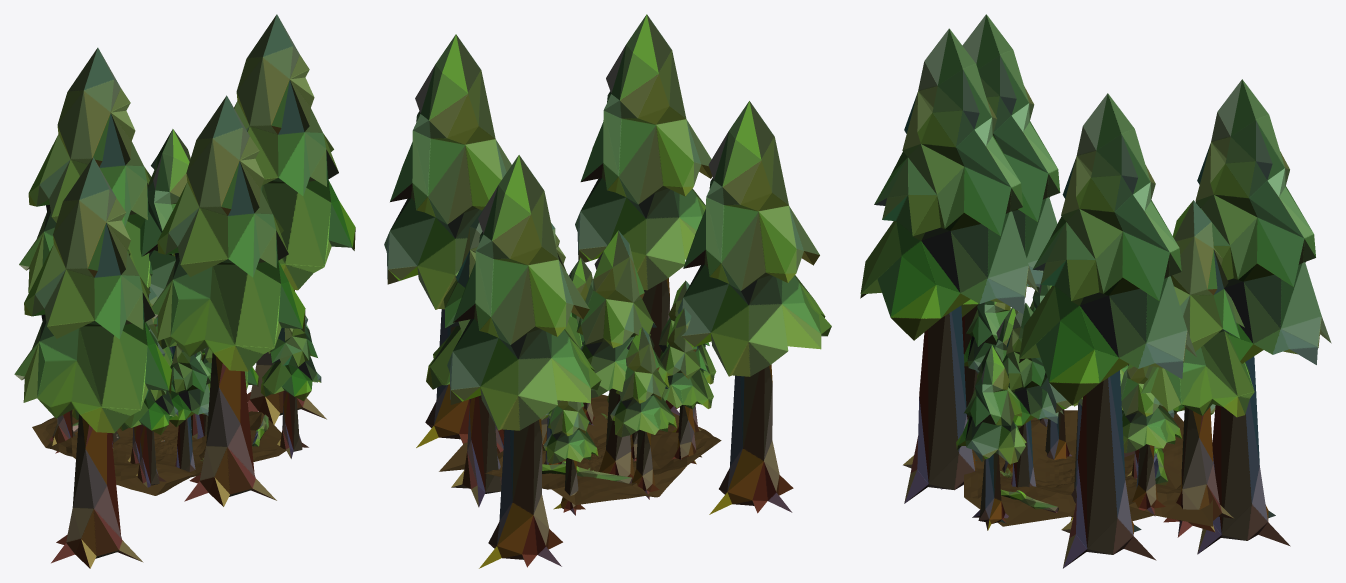
Rendered from simple-landscape-improved.glb.
3 views of the same model, side by side, from view 1: azimuth 30°, elevation 25°; view 2: azimuth 150°, elevation 25°; view 3: azimuth 270°, elevation 25° (orthographic). The views are drawn at different scales.
Visible parts, largest first — view 1: redwood.017, redwood.014, redwood.015, redwood.016, ground, redwood.007, redwood.011, redwood.006, redwood.009, redwood, redwood.010, redwood.005; view 2: redwood.016, redwood.017, redwood.014, redwood.015, redwood.003, ground, redwood.007, redwood.010, redwood.008, redwood.004, redwood.009, redwood.005 (+2 smaller); view 3: redwood.015, redwood.014, redwood.016, redwood.007, redwood.017, ground, redwood.011, redwood.013, redwood.005, redwood.009, redwood, redwood.001 (+1 smaller).
Boxes of the visible parts, x1=… form: redwood.017: x1=14, y1=157, x2=171, y2=568; redwood.014: x1=152, y1=95, x2=305, y2=506; redwood.015: x1=234, y1=14, x2=355, y2=424; redwood.016: x1=19, y1=47, x2=152, y2=453; ground: x1=32, y1=409, x2=286, y2=495; redwood.007: x1=140, y1=129, x2=190, y2=354; redwood.011: x1=260, y1=315, x2=321, y2=458; redwood.006: x1=168, y1=344, x2=210, y2=471; redwood.009: x1=120, y1=329, x2=178, y2=487; redwood: x1=158, y1=336, x2=208, y2=439; redwood.010: x1=49, y1=410, x2=75, y2=445; redwood.005: x1=201, y1=347, x2=258, y2=390; redwood.016: x1=447, y1=155, x2=601, y2=568; redwood.017: x1=677, y1=101, x2=831, y2=514; redwood.014: x1=575, y1=14, x2=712, y2=415; redwood.015: x1=384, y1=34, x2=511, y2=447; redwood.003: x1=576, y1=230, x2=669, y2=479; ground: x1=439, y1=394, x2=721, y2=505; redwood.007: x1=426, y1=206, x2=501, y2=507; redwood.010: x1=610, y1=327, x2=676, y2=499; redwood.008: x1=660, y1=308, x2=713, y2=464; redwood.004: x1=543, y1=400, x2=598, y2=515; redwood.009: x1=659, y1=280, x2=716, y2=432; redwood.005: x1=569, y1=257, x2=594, y2=425; redwood.015: x1=1019, y1=93, x2=1196, y2=568; redwood.014: x1=860, y1=28, x2=1038, y2=503; redwood.016: x1=1195, y1=79, x2=1331, y2=554; redwood.007: x1=1141, y1=200, x2=1254, y2=537; redwood.017: x1=941, y1=14, x2=1060, y2=489; ground: x1=964, y1=410, x2=1212, y2=526; redwood.011: x1=956, y1=345, x2=1026, y2=530; redwood.013: x1=1120, y1=364, x2=1181, y2=516; redwood.005: x1=1002, y1=303, x2=1063, y2=487; redwood.009: x1=964, y1=301, x2=1011, y2=373; redwood: x1=1040, y1=365, x2=1128, y2=521; redwood.001: x1=1045, y1=402, x2=1078, y2=459.
Bounding box in the file's own units: 470 × 536 × 447.
13 materials, 6 textured.
